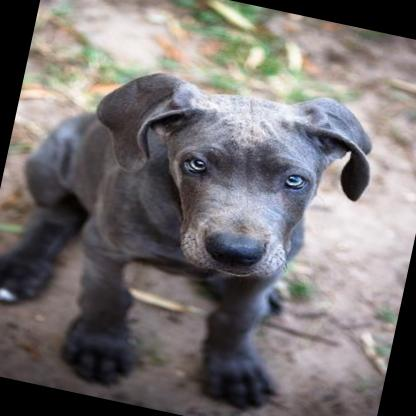Great_Dane: (0, 29, 389, 416)
